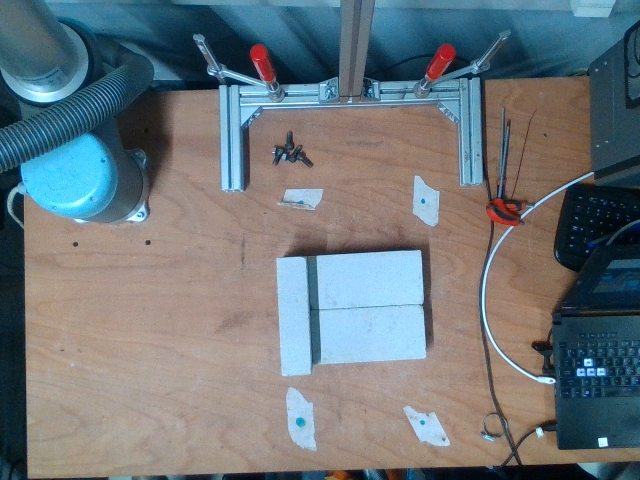brick-side: (274, 255, 312, 378)
